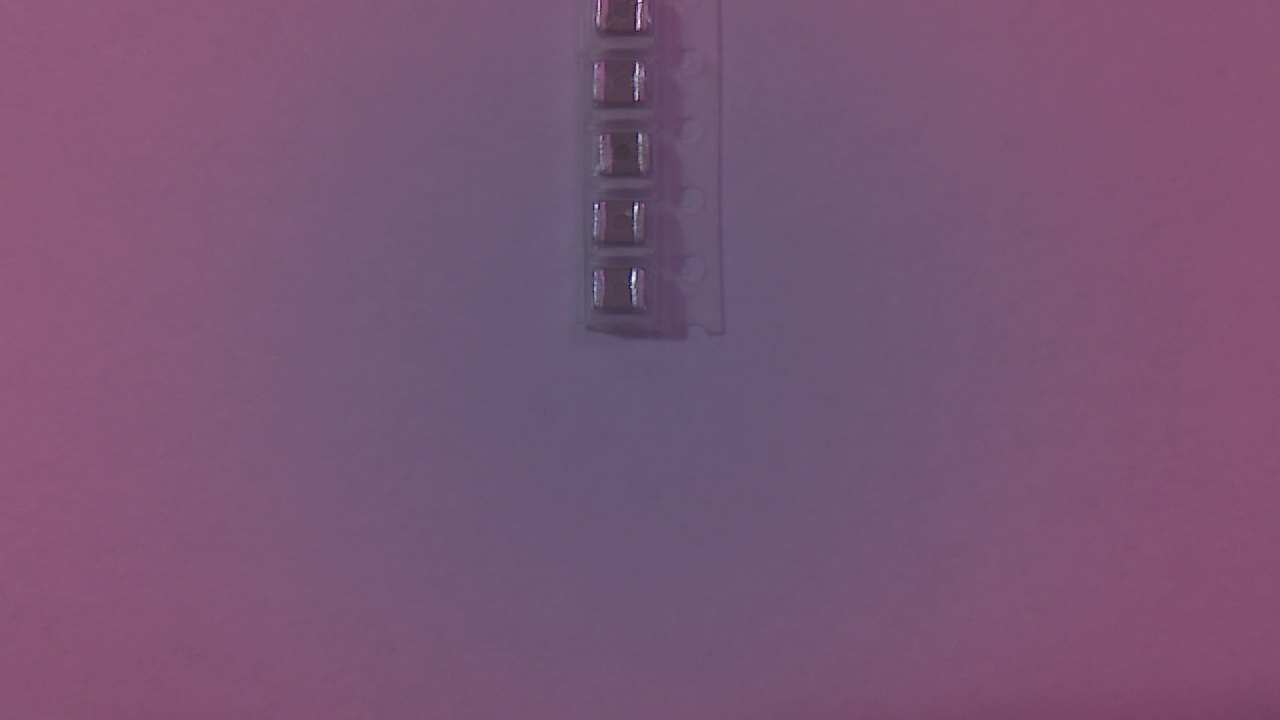Condensator: (595, 201, 654, 254), (596, 61, 655, 110), (602, 131, 659, 178), (596, 270, 651, 318), (601, 7, 656, 35)
